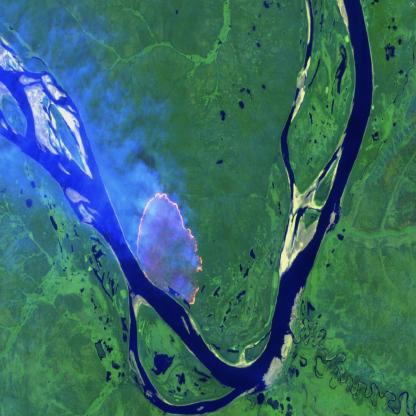fire: (133, 187, 205, 308)
